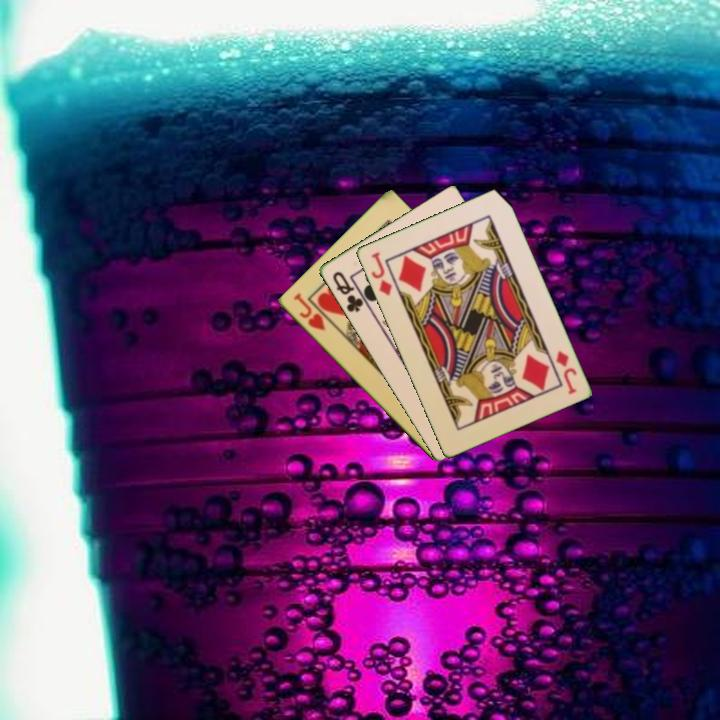Jd: (367, 248, 395, 299), (552, 347, 579, 397)
Jh: (289, 289, 328, 334)
Qc: (329, 267, 366, 315)
